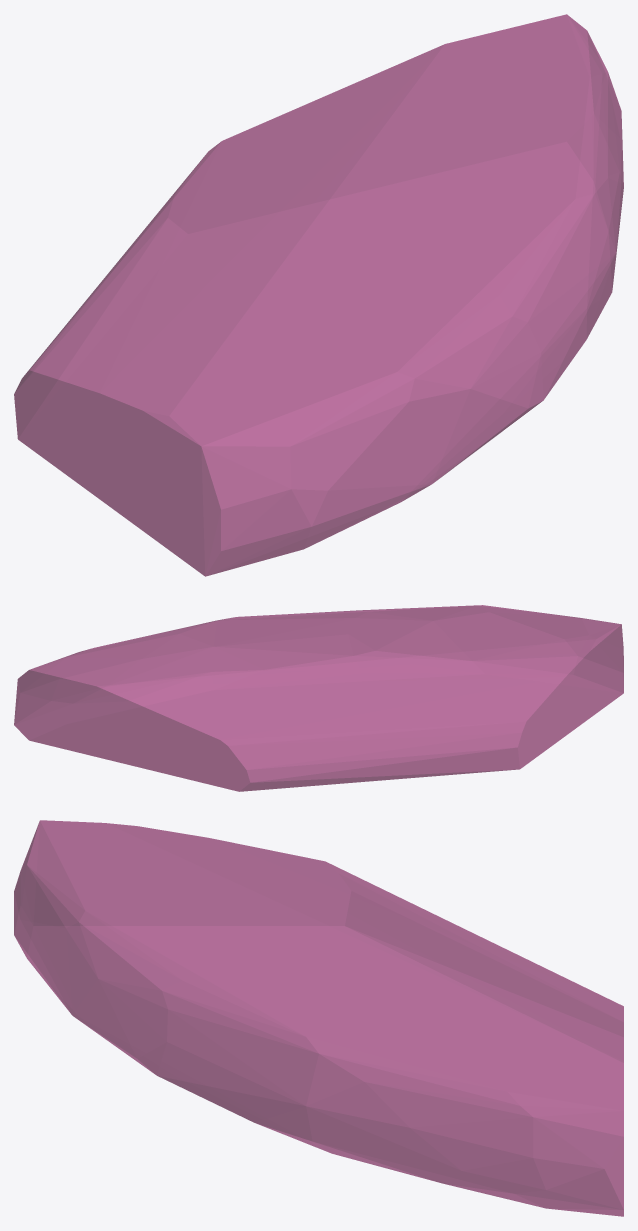
The picture shows the model from 3 angles, top to bottom: view 1: azimuth 30°, elevation 25°; view 2: azimuth 150°, elevation 25°; view 3: azimuth 270°, elevation 25°; orthographic projection. The views are drawn at different scales.
Visible parts, largest first — view 1: Shape_IndexedFaceSet.007_Shape_IndexedFaceSet.16316; view 2: Shape_IndexedFaceSet.007_Shape_IndexedFaceSet.16316; view 3: Shape_IndexedFaceSet.007_Shape_IndexedFaceSet.16316.
Boxes of the visible parts, left/top/right/bottom form: Shape_IndexedFaceSet.007_Shape_IndexedFaceSet.16316: left=14, top=14, right=623, bottom=576; Shape_IndexedFaceSet.007_Shape_IndexedFaceSet.16316: left=14, top=605, right=623, bottom=791; Shape_IndexedFaceSet.007_Shape_IndexedFaceSet.16316: left=14, top=820, right=623, bottom=1216.
Size of the model in its own units: 0.2844 by 0.0465 by 0.243.
